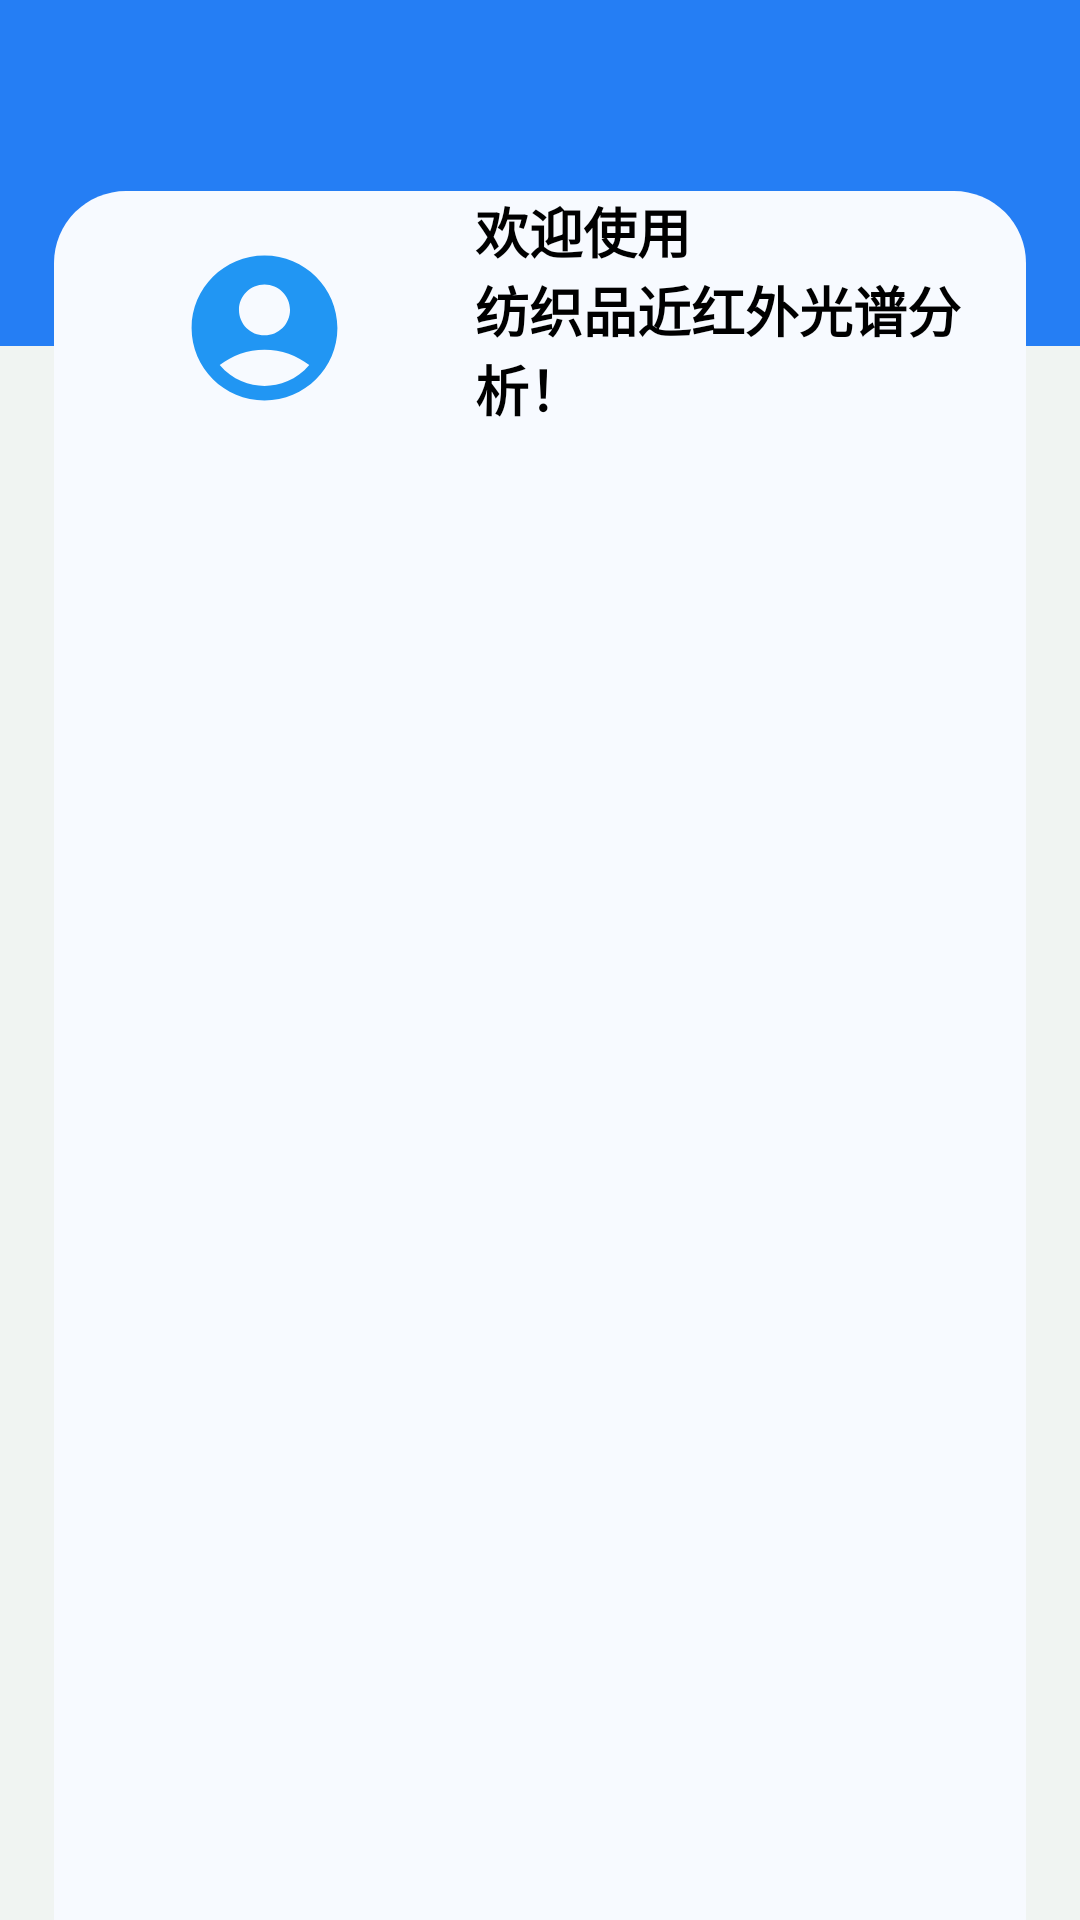

Screen size 1080×1920. Icon name, then its box in pixels as (left=x1, top=y1, right=x2, bottom=y2):
用户头像: (left=191, top=255, right=338, bottom=401)
